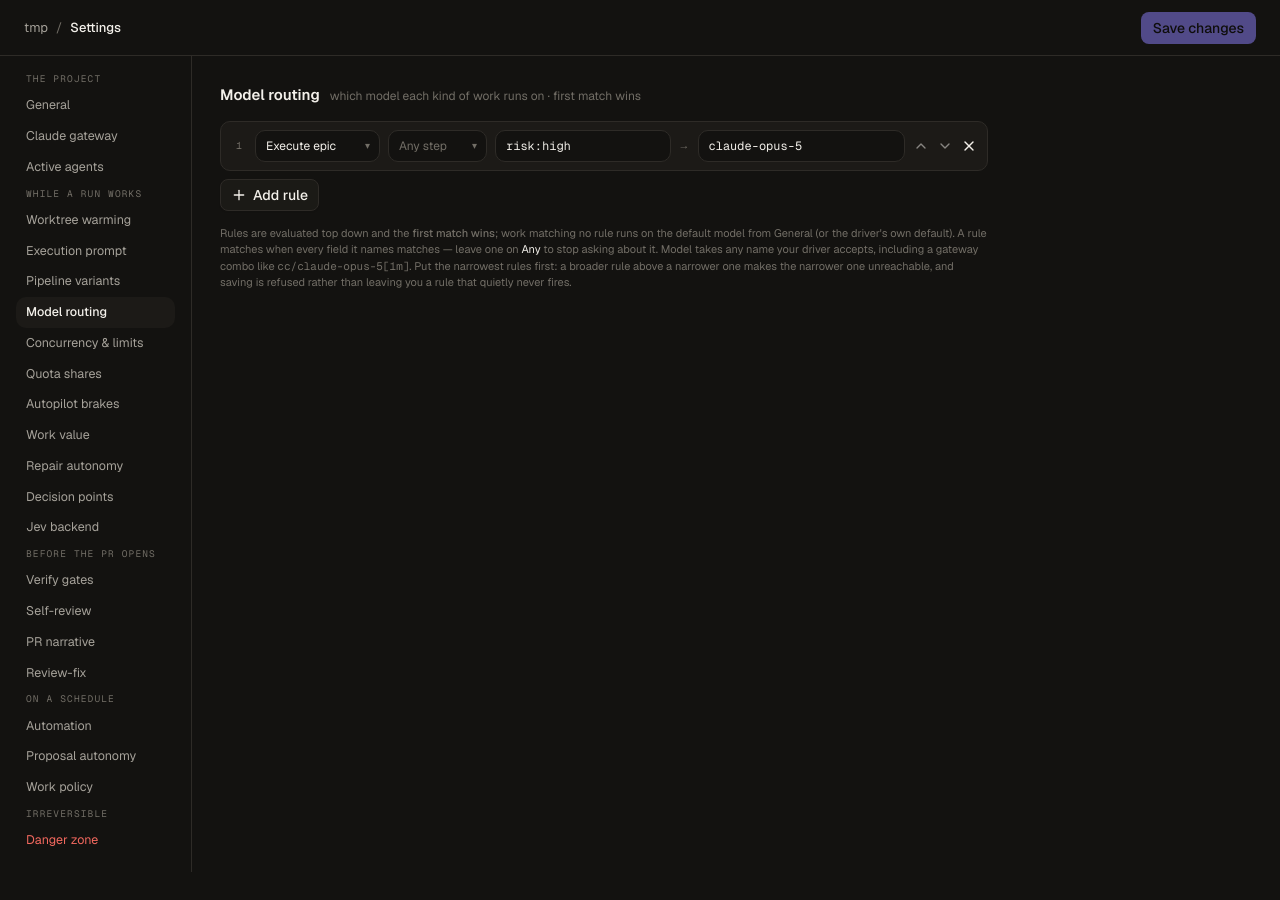
SettingsView model routing (anton-uu7r) › disables the label matcher for a job without bead context, and drops a set one
Select "Nightly stringer" in the dropdown named "Rule 1 job type" at (318, 146), box [255,130,380,162]
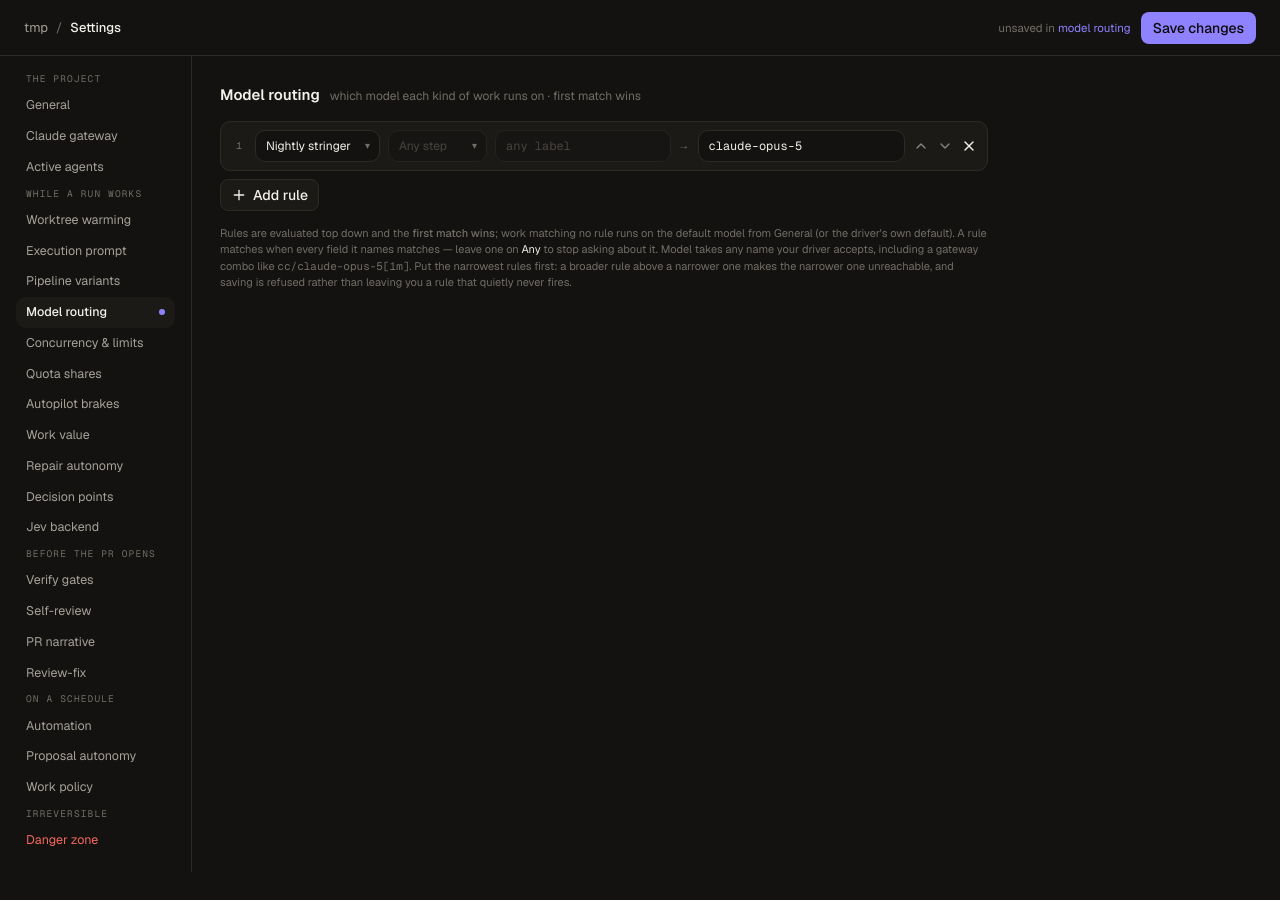
expect the field named "Rule 1 bead label" is disabled: met, box [495,130,670,162]
expect the field named "Rule 1 bead label" is empty: met, box [495,130,670,162]
